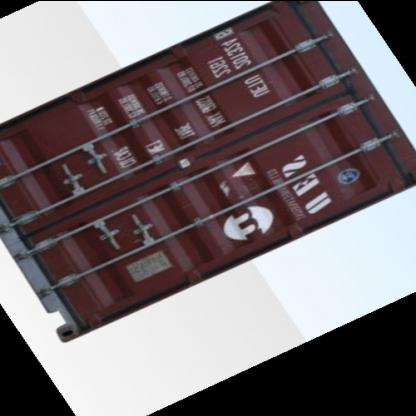Damage: (228, 164, 272, 208)
